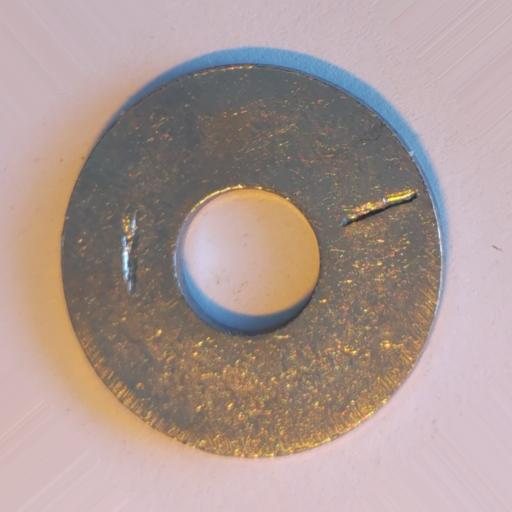scratch: (338, 187, 419, 228), (120, 210, 140, 292)
